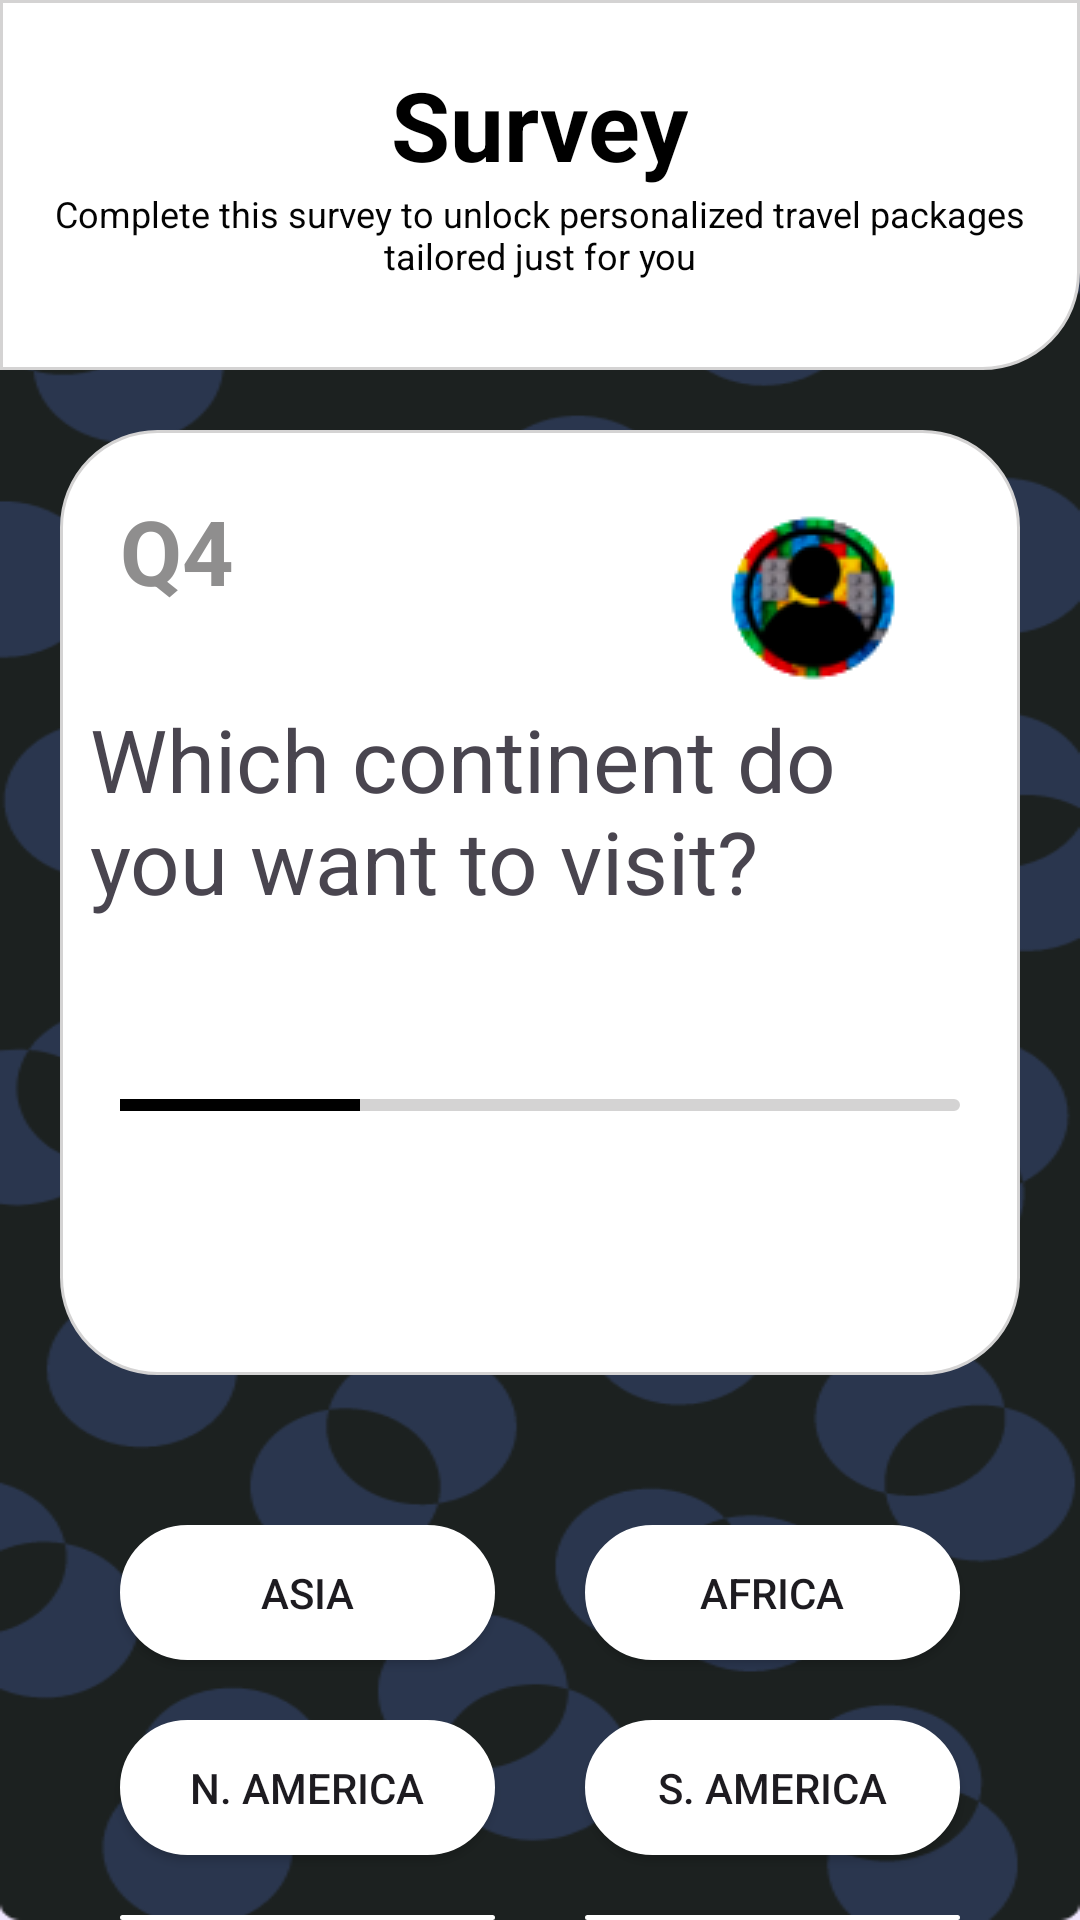

Icon bounding boxes for this 1080px×1920px phone screenshot, format (x1, y1, x2, y2):
person: (731, 516, 895, 680)
